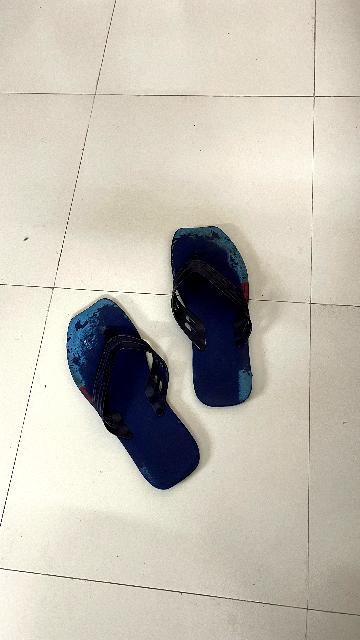sandal: (45, 286, 229, 509), (156, 210, 259, 426)
